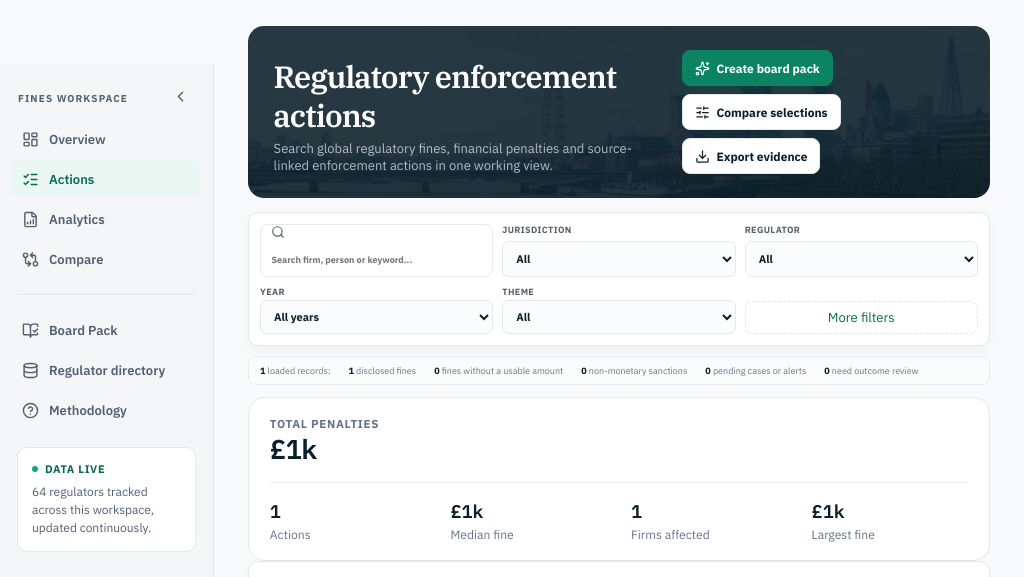
Test: Fines search › says no actions match instead of showing £0 tiles, and clearing restores the view
The image size is (1024, 577).
Type "zzqx" into the field with placeholder "Search firm, person or keyword..." at (377, 259), box 271,242 -> 482,276
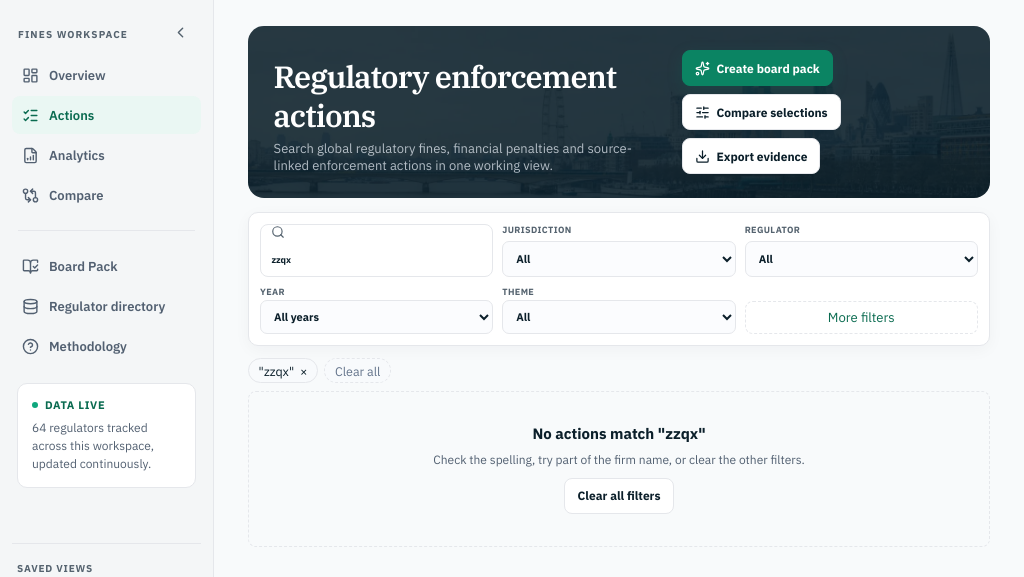
Check: the text "No actions match \"zzqx\"" is shown 2 times
Check: the text "Total penalties" is gone
Click the button "Clear all filters" at (619, 496), box 564,478 -> 674,514
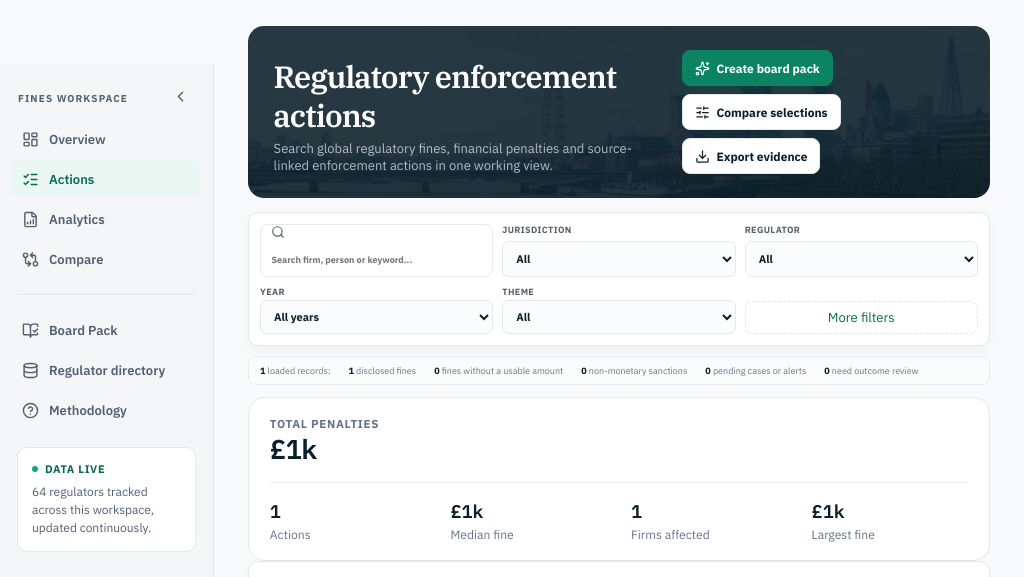
Check: the text "Total penalties" is shown, box 270,416 -> 379,431
